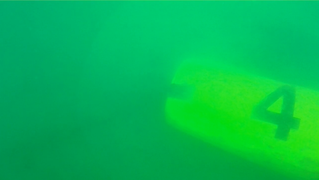4: (253, 85, 300, 141)
pipe: (164, 57, 319, 180)
